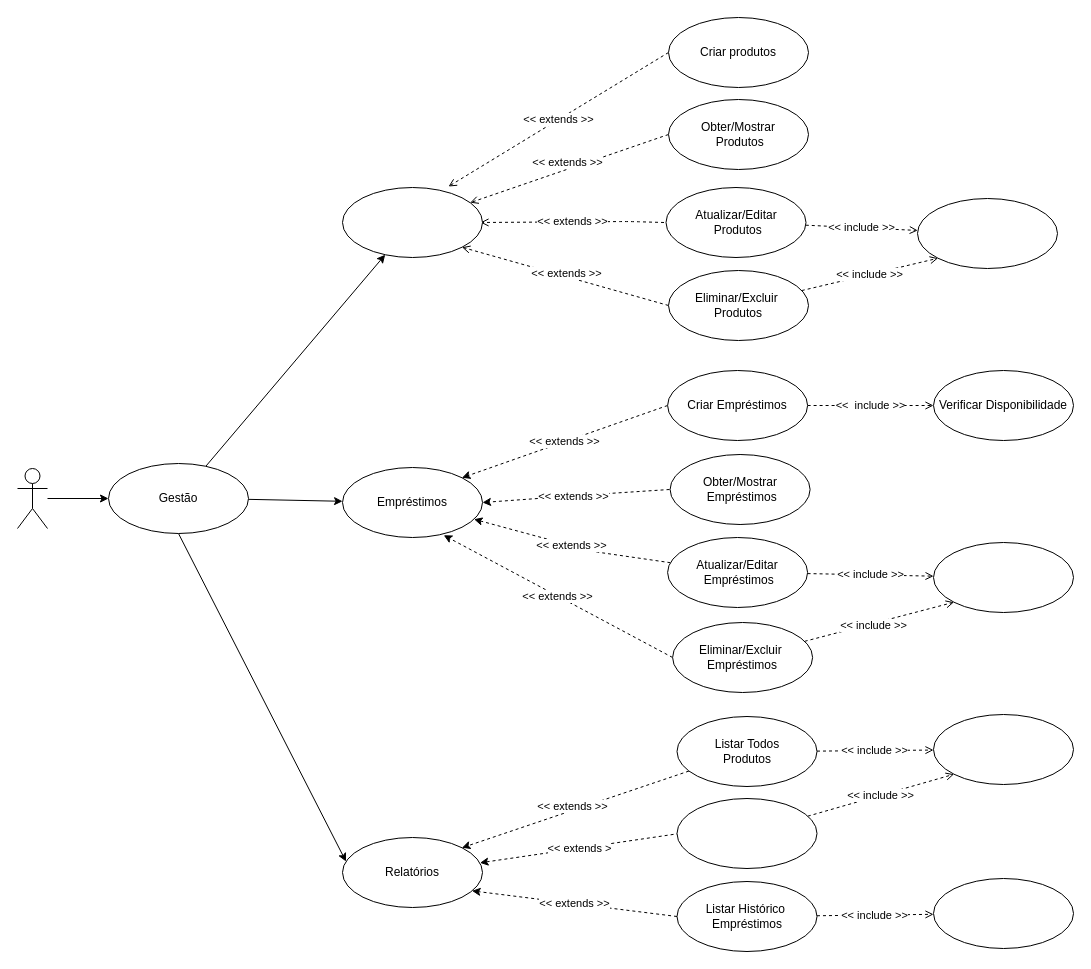
This 1091x969 diagram has some shape labels left out. Each missing label, with the centre of its shape:
Actor: (x=32, y=498)
Listar Produtos Emprestados: (x=746, y=833)
Produtos: (x=412, y=222)
Verificar a existência de empréstimos: (x=1003, y=913)
Verificar a existência de produtos: (x=1003, y=749)
Verificar a existência do empréstimo: (x=1003, y=577)
Verificar a existência do produto: (x=987, y=233)
